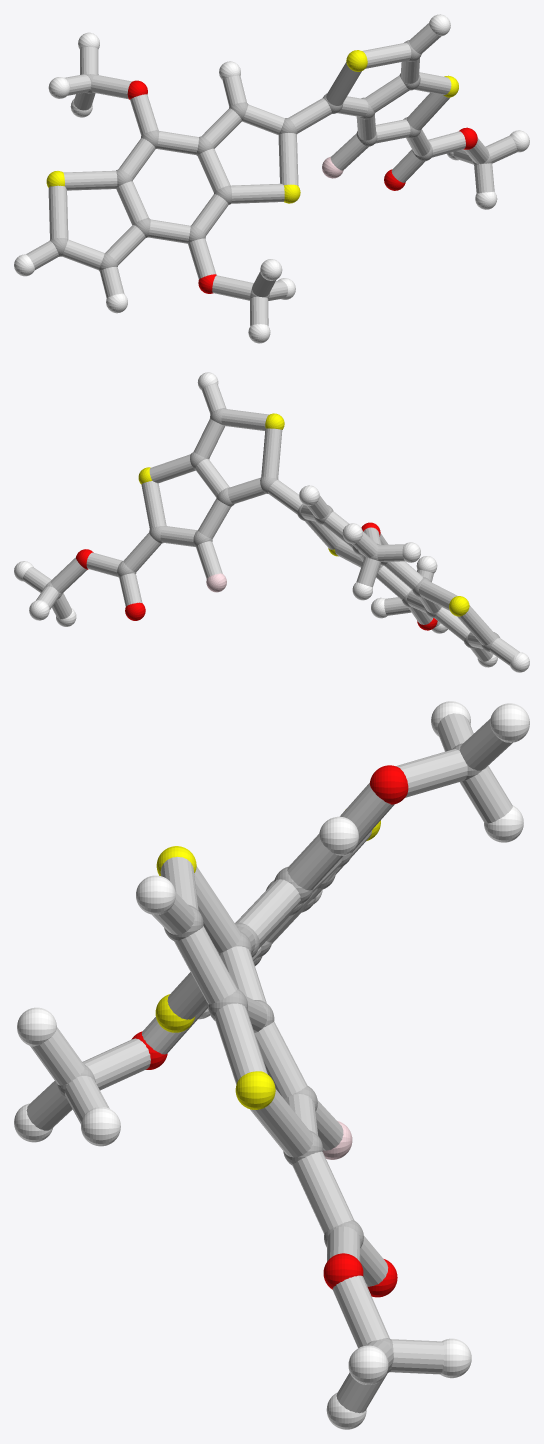
Rendered from color.glb.
3 renders of one model, top to bottom at view 1: azimuth 30°, elevation 25°; view 2: azimuth 150°, elevation 25°; view 3: azimuth 270°, elevation 25°, orthographic. The views are drawn at different scales.
Visible parts, largest first — view 1: grp15205, grp8689, grp1, grp7241, grp13395; view 2: grp15205, grp8689, grp1, grp7241, grp13395; view 3: grp15205, grp8689, grp1, grp13395, grp7241.
Boxes of the visible parts, bbox=[...] form: grp15205: bbox=[26, 23, 517, 325]; grp8689: bbox=[14, 14, 529, 343]; grp1: bbox=[49, 40, 492, 298]; grp7241: bbox=[46, 50, 458, 203]; grp13395: bbox=[127, 80, 477, 293]; grp15205: bbox=[23, 384, 519, 665]; grp8689: bbox=[14, 372, 529, 672]; grp1: bbox=[44, 408, 499, 651]; grp7241: bbox=[138, 413, 469, 616]; grp13395: bbox=[76, 522, 437, 630]; grp15205: bbox=[26, 713, 512, 1413]; grp8689: bbox=[14, 701, 529, 1429]; grp1: bbox=[57, 743, 481, 1373]; grp13395: bbox=[131, 765, 408, 1297]; grp7241: bbox=[155, 809, 380, 1109].
Size of the model in its own units: 16.64 by 7.67 by 7.74.
